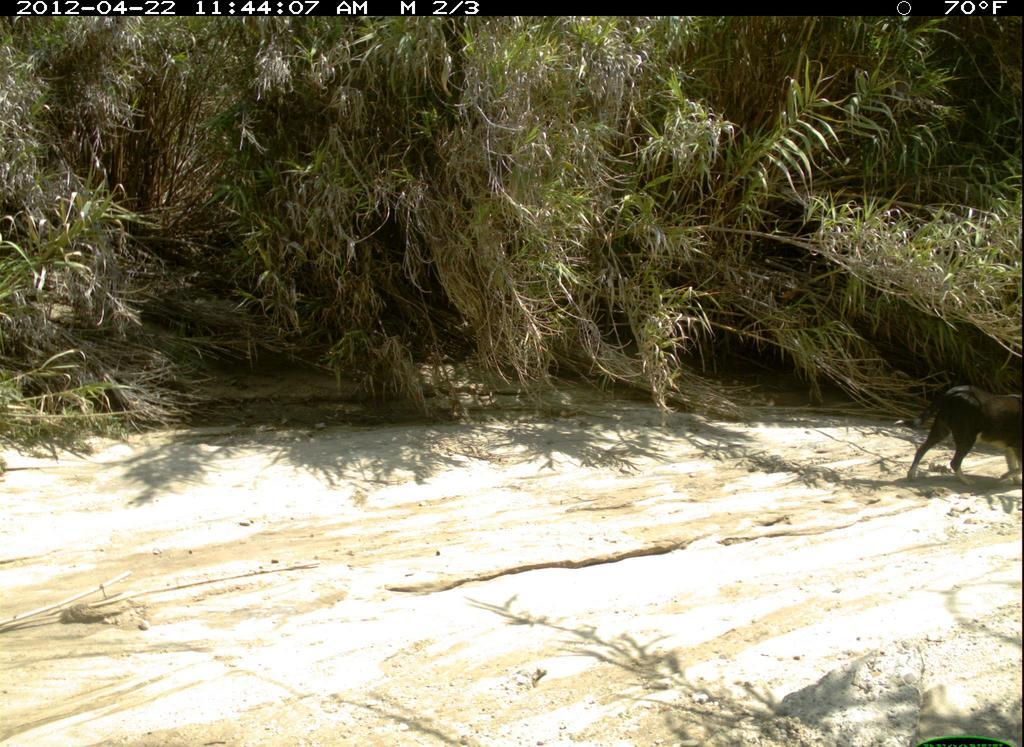dog: (899, 377, 1023, 491)
